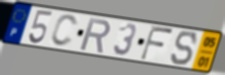3: (113, 22, 137, 58)
5: (27, 9, 54, 45)
C: (49, 14, 80, 49)
F: (139, 24, 176, 62)
R: (78, 16, 112, 54)
S: (169, 30, 199, 67)
